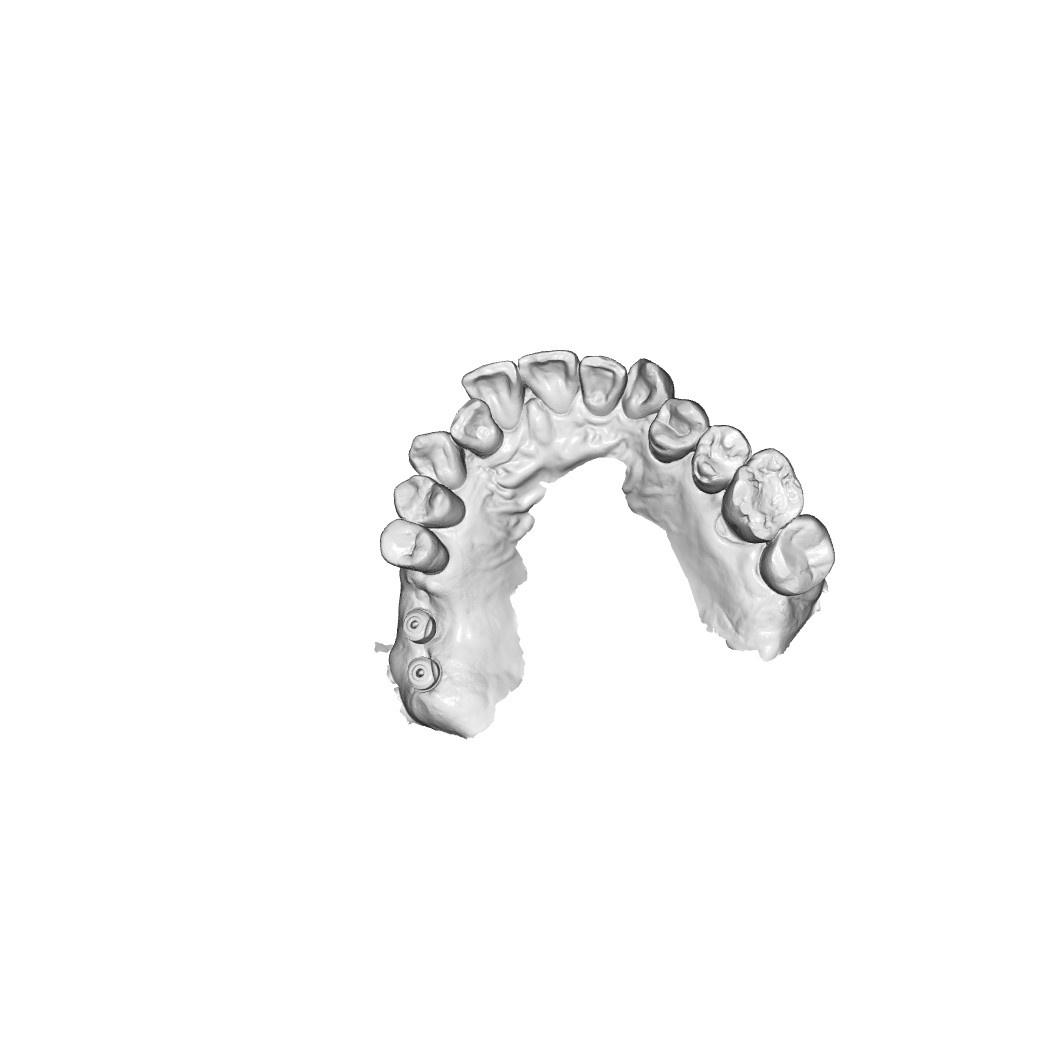canine: (405, 428, 474, 493), (615, 356, 672, 421)
implant: (401, 606, 434, 642), (406, 656, 440, 688)
incisor: (521, 350, 582, 420), (466, 365, 525, 432), (578, 359, 625, 420), (452, 403, 498, 452)
molar: (730, 455, 802, 538), (770, 519, 832, 592)
premolar: (684, 425, 749, 492), (650, 402, 709, 467), (394, 476, 459, 521), (382, 522, 437, 567)
